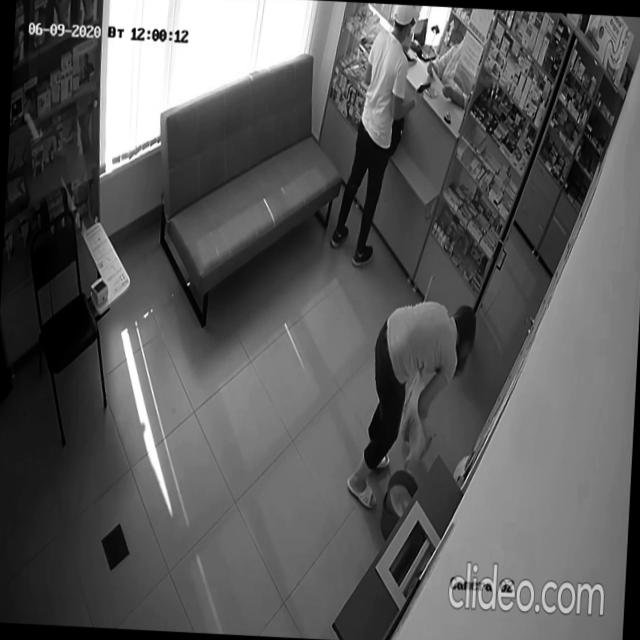gun: (416, 80, 432, 96)
person: (344, 296, 479, 518)
person with a gun: (330, 1, 435, 272)
